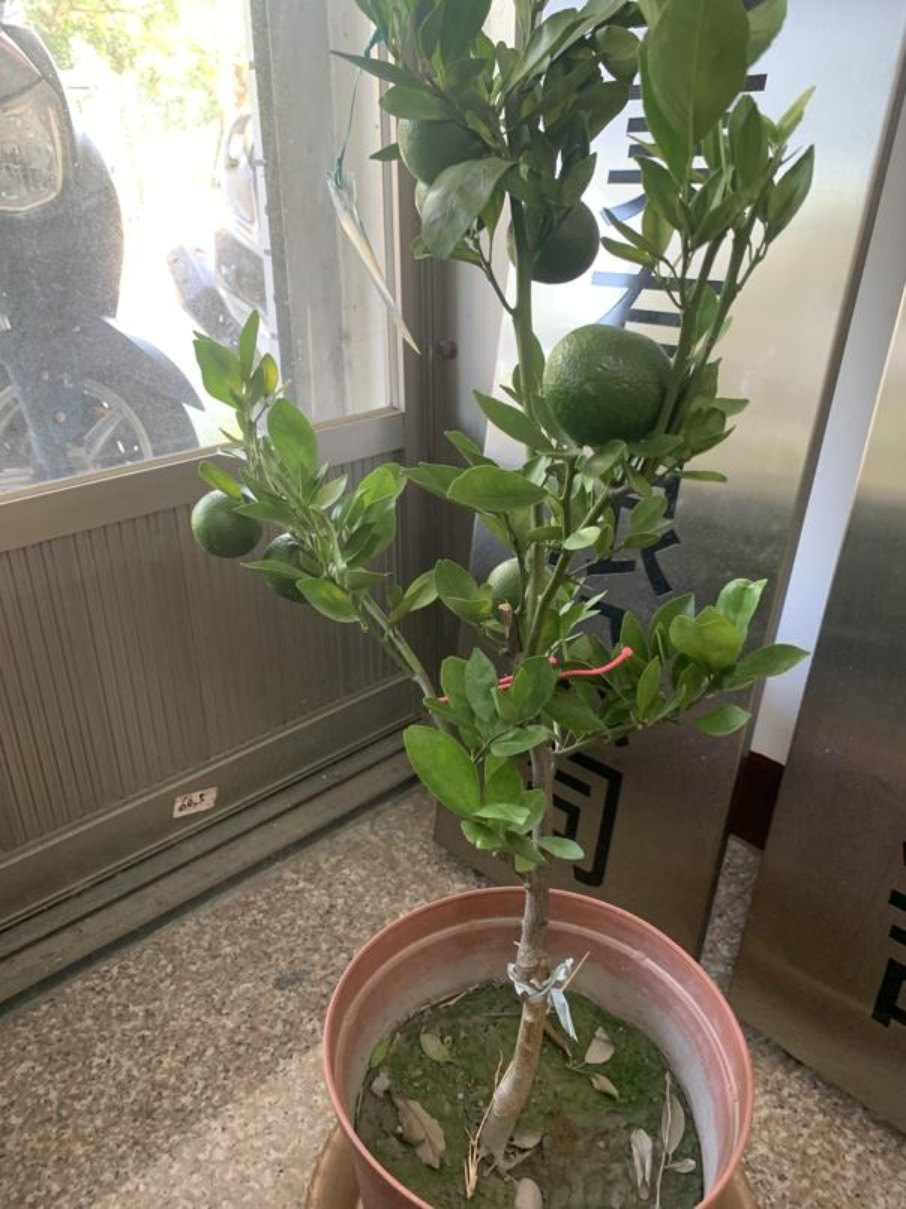Tangerine: (543, 318, 675, 448), (504, 191, 598, 286), (188, 487, 262, 559)
